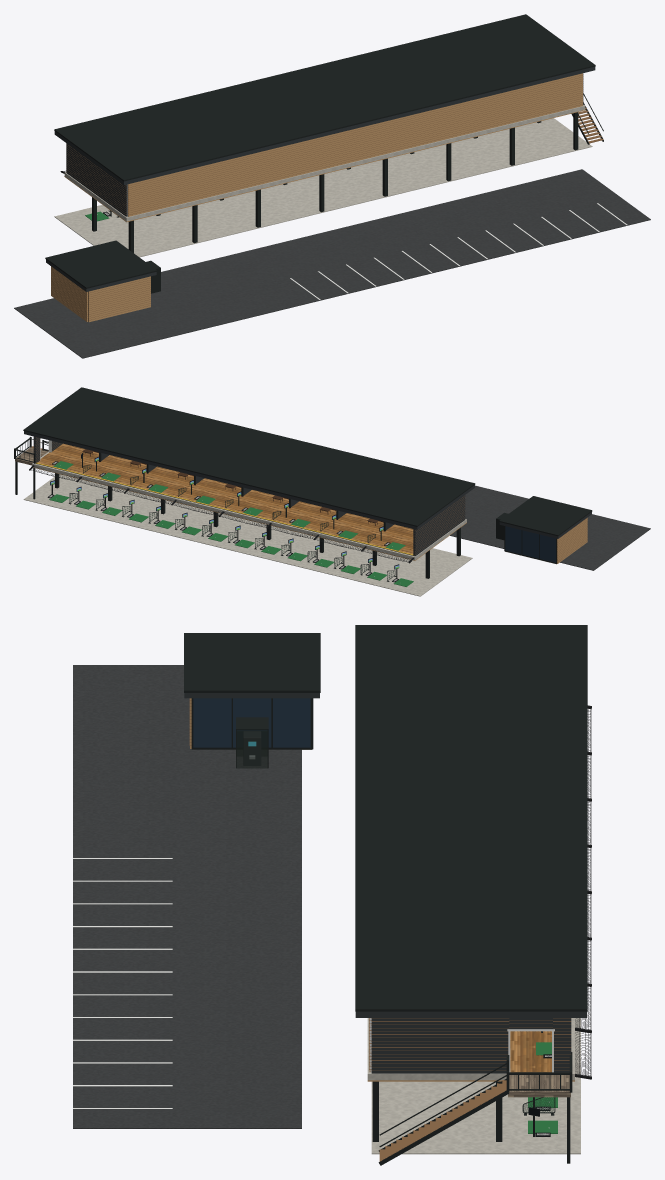
The model's file is driving_range_l3.gltf.
3 renders of one model, top to bottom at view 1: azimuth 30°, elevation 25°; view 2: azimuth 150°, elevation 25°; view 3: azimuth 270°, elevation 25°, orthographic. The views are drawn at different scales.
Parts seen in each view (by area): view 1: BASE.005, ROOF.005, WALLS_HIGH.005; view 2: BASE.005, ROOF.005, WALLS_HIGH.005; view 3: BASE.005, ROOF.005, WALLS_HIGH.005.
Part boxes in pixels (<box>): BASE.005: <box>14,93,650,358</box>; ROOF.005: <box>45,14,595,291</box>; WALLS_HIGH.005: <box>51,73,583,322</box>; BASE.005: <box>15,439,650,596</box>; ROOF.005: <box>23,387,592,538</box>; WALLS_HIGH.005: <box>14,436,587,578</box>; BASE.005: <box>73,665,591,1165</box>; ROOF.005: <box>184,625,587,1017</box>; WALLS_HIGH.005: <box>189,698,572,1163</box>.
Size of the model in its own units: 59.37 by 7.96 by 26.06.
Materials: 24 (5 with a texture image).
